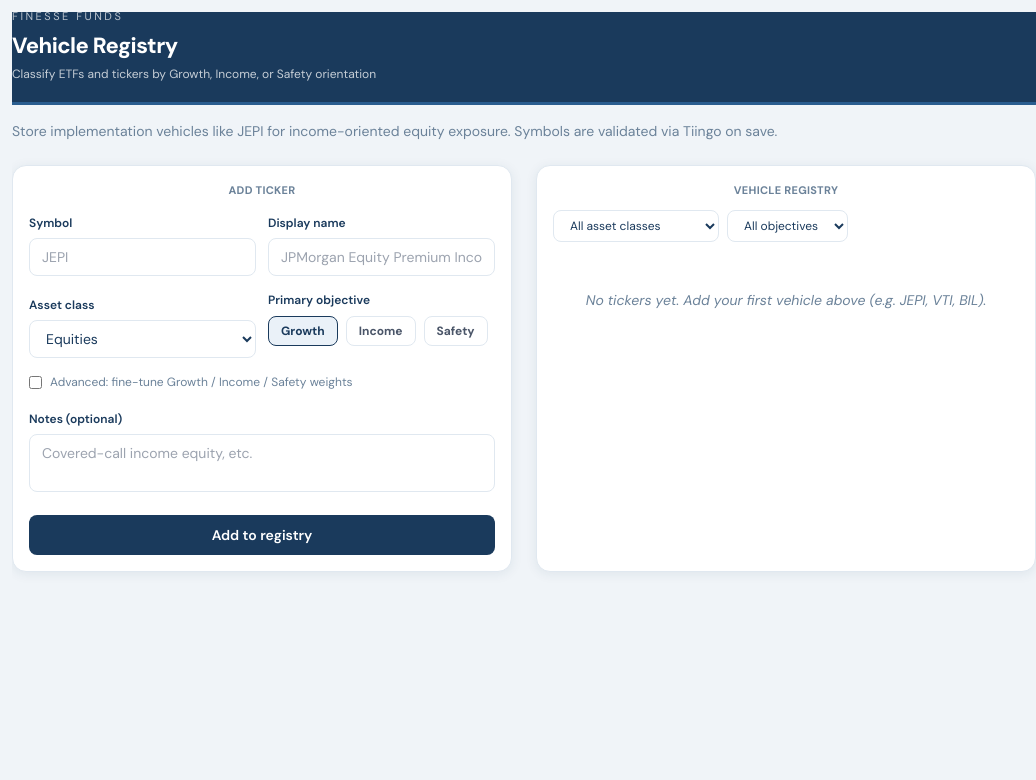
Test: TickersPage › adds a ticker to the registry list
The width and height of the screenshot is (1036, 780).
Check: the heading "Vehicle Registry" is shown, box [12, 30, 178, 60]
Type "VTI" into the field with placeholder "JEPI" at coordinates (142, 257), box [29, 238, 256, 276]
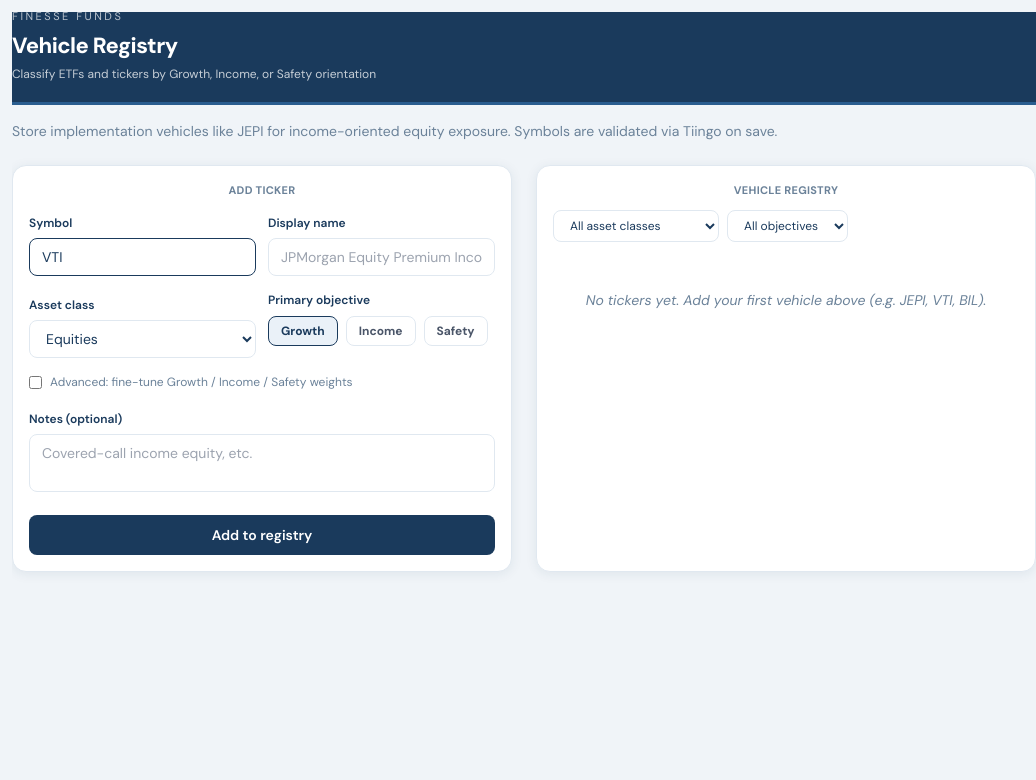
Type "Vanguard Total Stock Market ETF" into the field with placeholder "JPMorgan Equity Premium Income ETF" at coordinates (382, 257), box [268, 238, 495, 276]
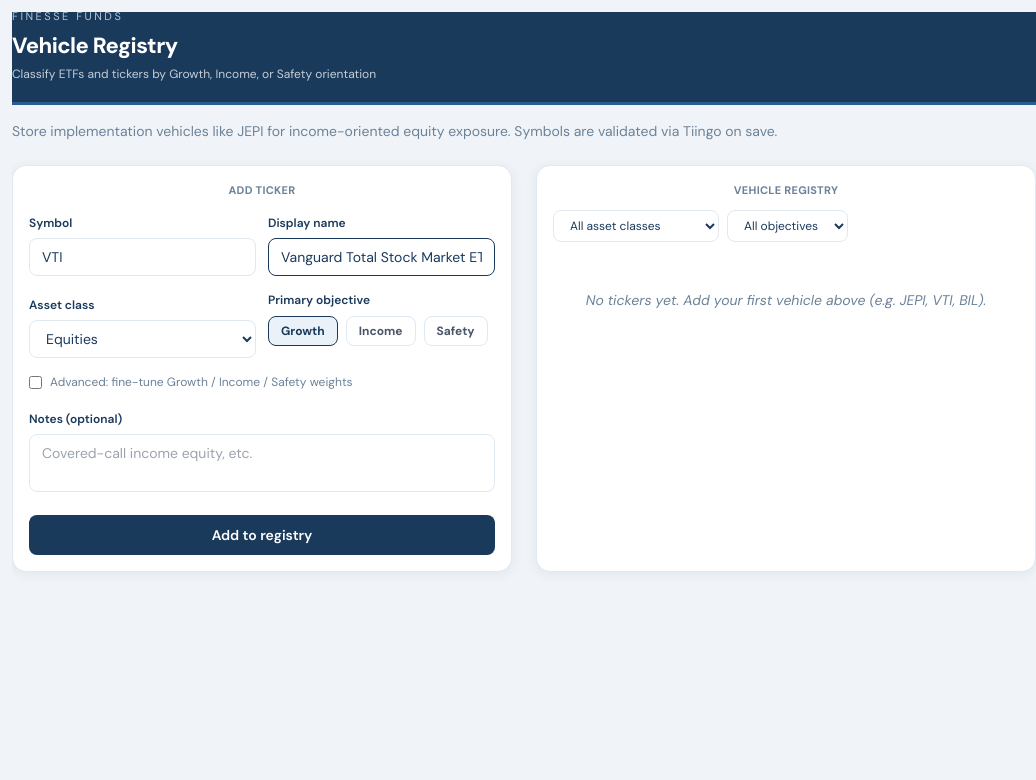
Click the button "Add to registry" at coordinates (262, 535), box [29, 515, 495, 555]
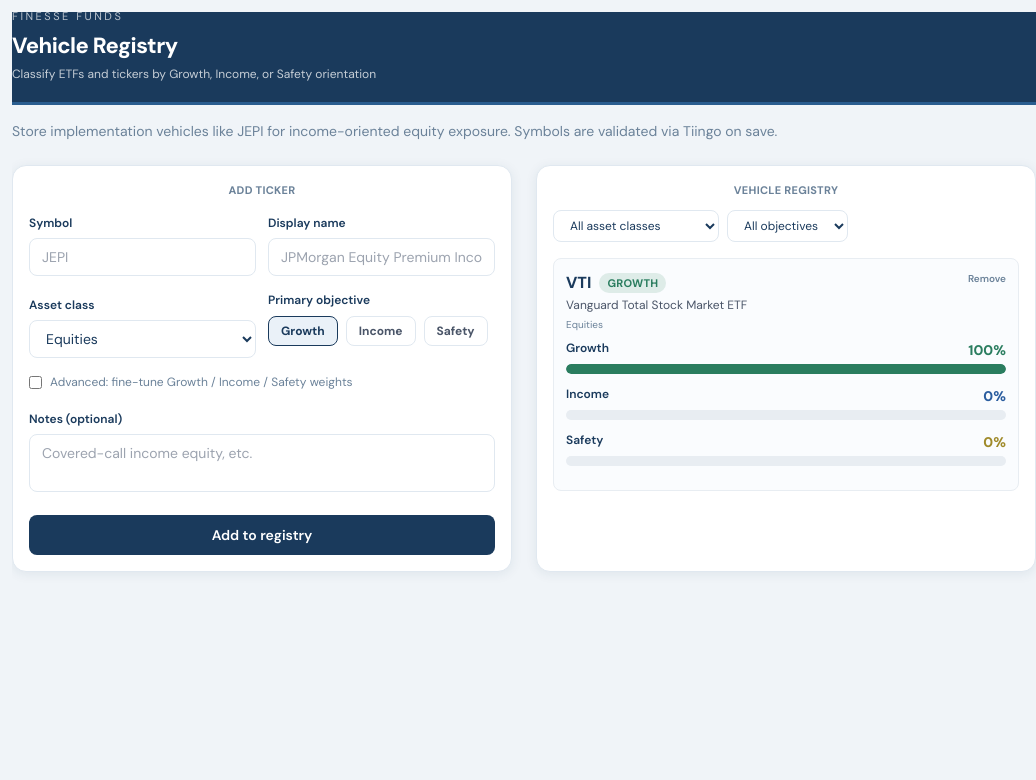
Check: the text "VTI" is shown, box [566, 271, 591, 295]
Check: the text "Vanguard Total Stock Market ETF" is shown, box [566, 297, 747, 313]
